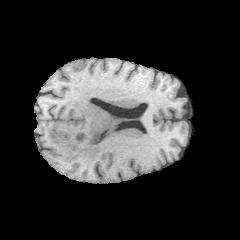glioma: (49, 99, 122, 161)
